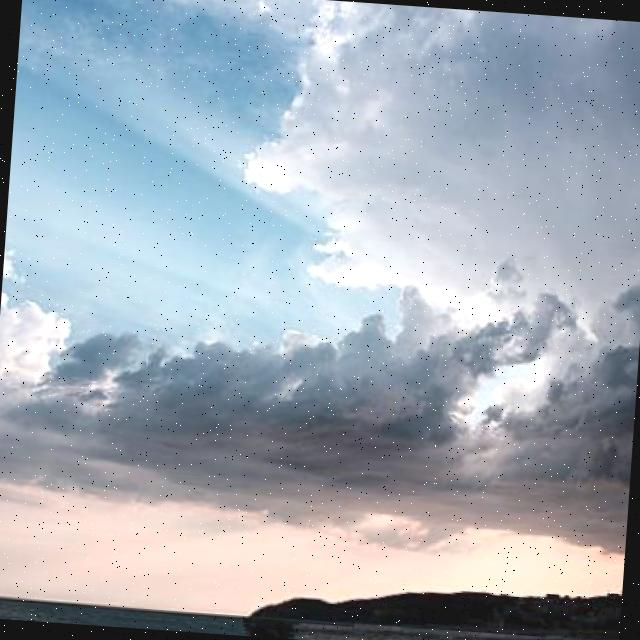Ns: (1, 231, 640, 572)
